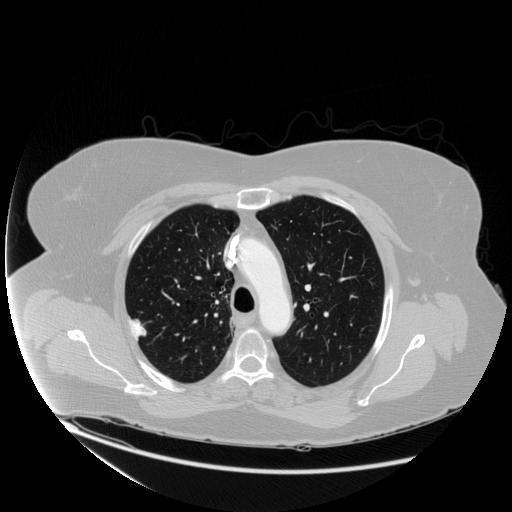nodule: (124, 316, 150, 342)
